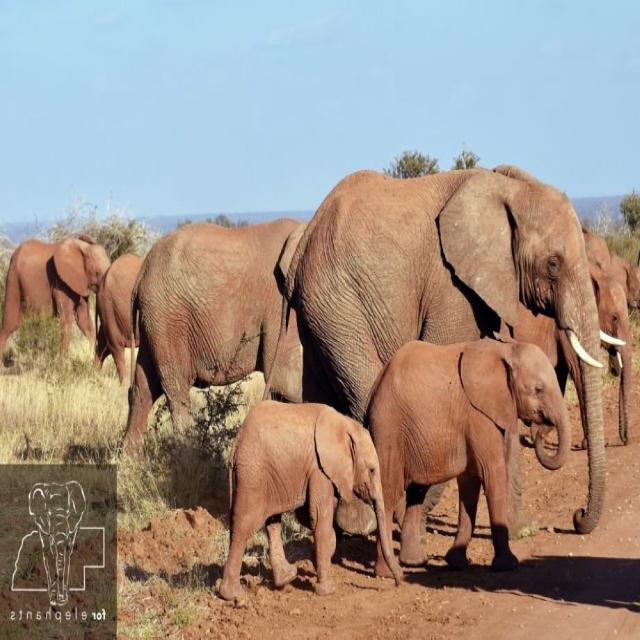elephant: (263, 165, 607, 532), (367, 338, 572, 570), (125, 218, 307, 452), (220, 400, 402, 603), (1, 236, 110, 358)
